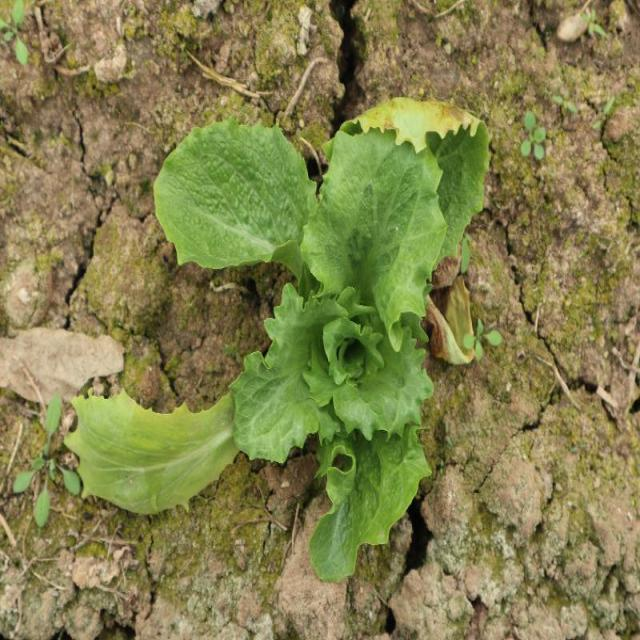crop: (68, 95, 492, 583)
